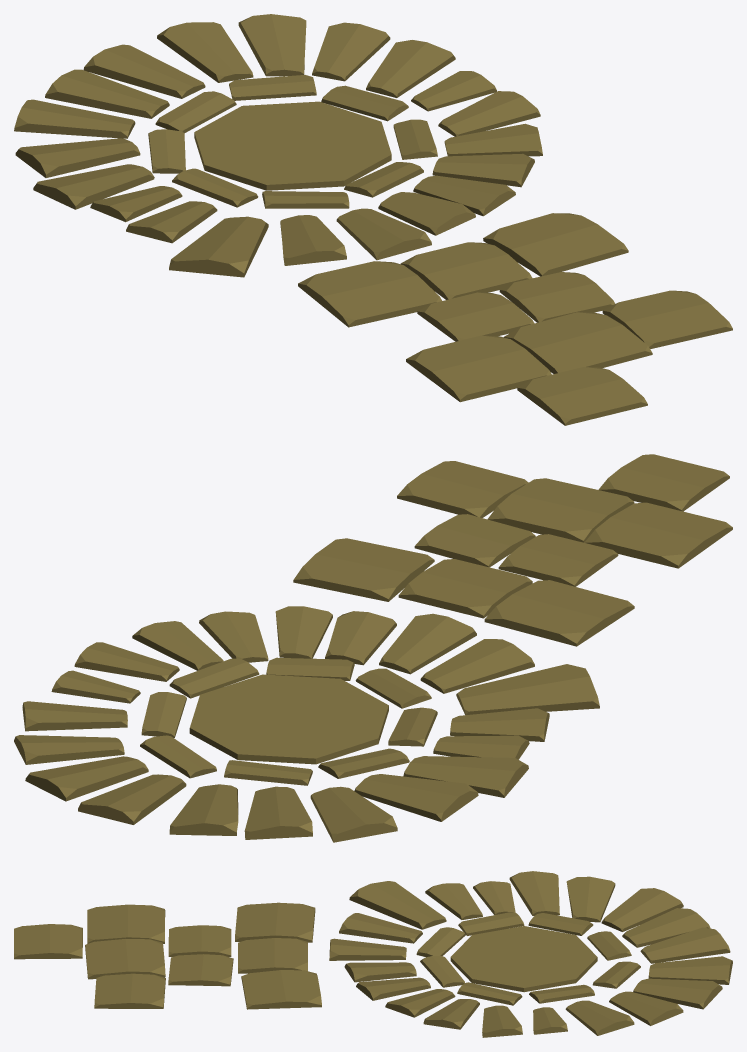
File: OutsideTiles_low.fbx
3 renders of one model, top to bottom at view 1: azimuth 30°, elevation 25°; view 2: azimuth 150°, elevation 25°; view 3: azimuth 270°, elevation 25°, orthographic. The views are drawn at different scales.
Visible parts, largest first — view 1: Circletile_low; view 2: Circletile_low; view 3: Circletile_low.
Boxes of the visible parts, x1,y1,x2,y2 form: Circletile_low: (14, 14, 732, 425); Circletile_low: (14, 454, 732, 842); Circletile_low: (14, 871, 732, 1037).
Size of the model in its own units: 130 by 5.12 by 247.
